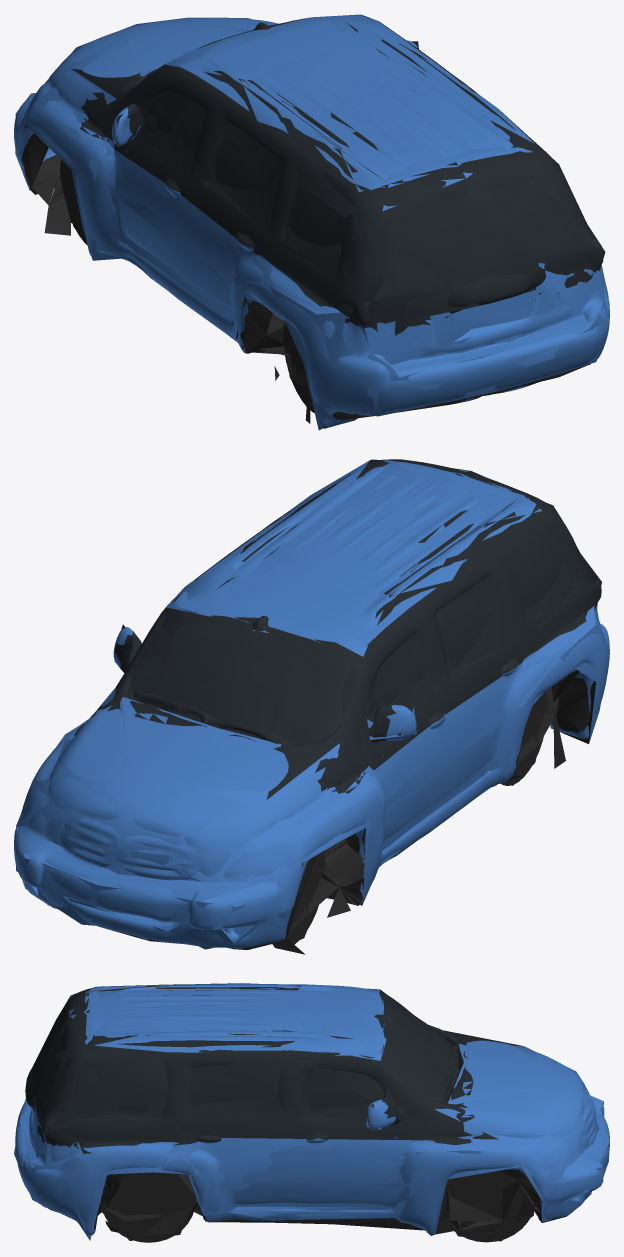
File: chevrolet-hhr.glb
The picture shows the model from 3 angles, top to bottom: view 1: azimuth 30°, elevation 25°; view 2: azimuth 150°, elevation 25°; view 3: azimuth 270°, elevation 25°; orthographic projection. The views are drawn at different scales.
Parts seen in each view (by area): view 1: body, far; view 2: body, far; view 3: body, far.
Boxes of the visible parts, box(x1,y1,x2,y2) form: body: box(14, 15, 609, 428); far: box(15, 14, 609, 430); body: box(14, 459, 609, 954); far: box(16, 459, 609, 949); body: box(15, 983, 609, 1242); far: box(14, 983, 609, 1241).
Bounding box in the file's own units: 1.99 × 1.63 × 4.48.
